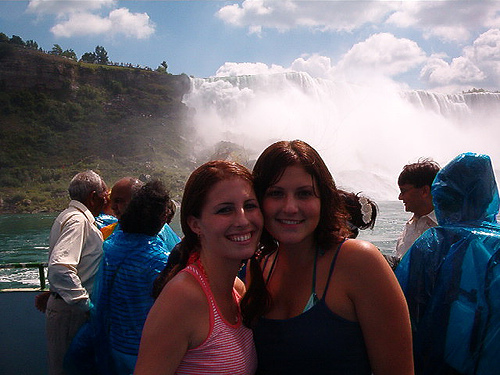without_mask: (194, 176, 264, 265), (262, 166, 327, 247), (394, 172, 435, 219)
